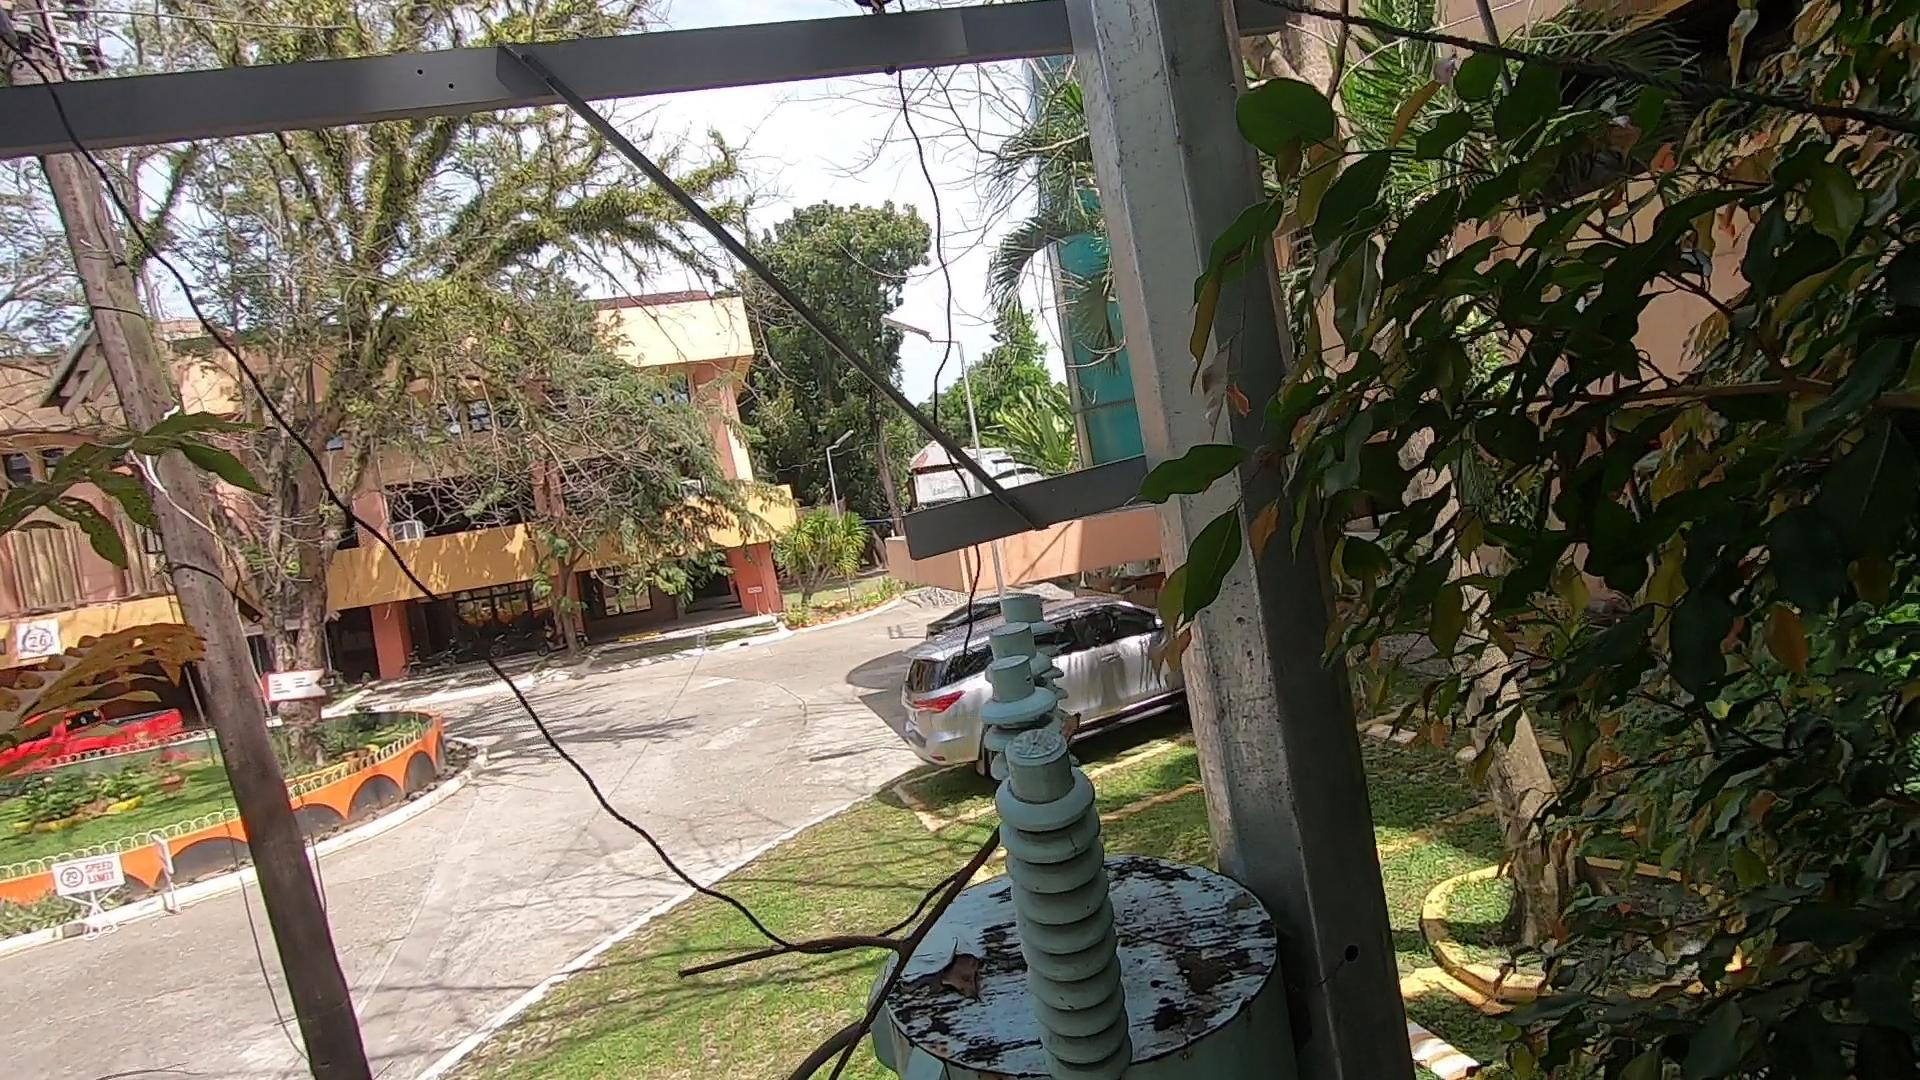leaf: (911, 948, 997, 1007)
tree branch: (645, 694, 1113, 1080)
